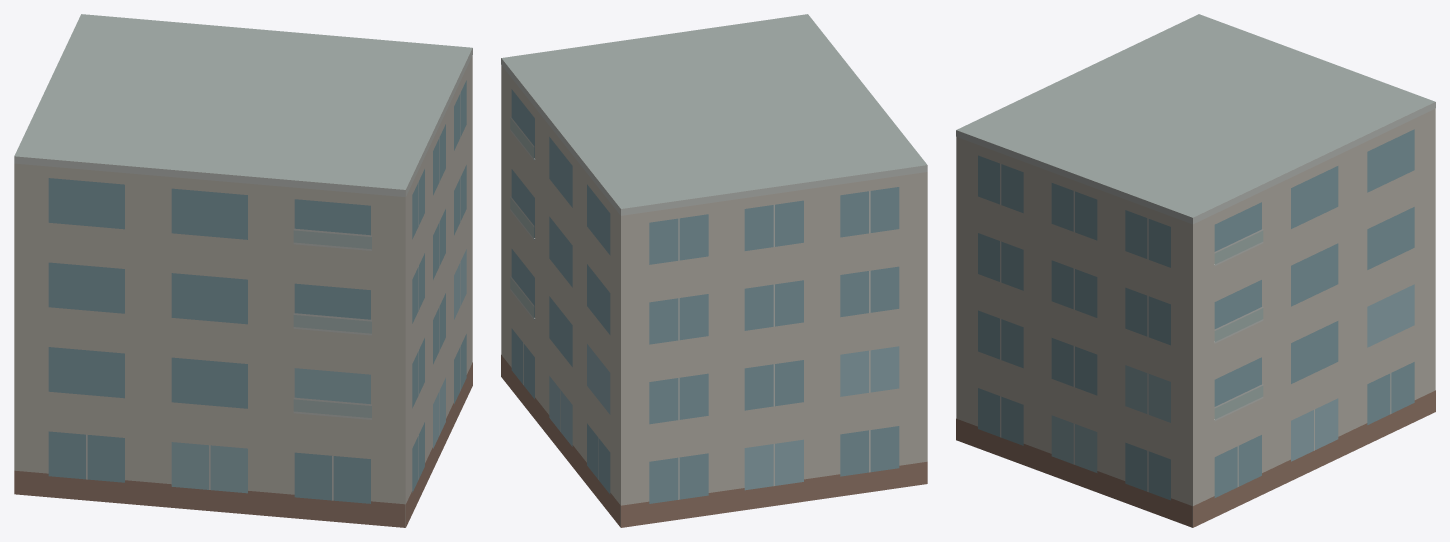
The model's file is survey-upis-32526259.glb.
3 views of the same model, side by side, from view 1: azimuth 30°, elevation 25°; view 2: azimuth 150°, elevation 25°; view 3: azimuth 270°, elevation 25° (orthographic). The views are drawn at different scales.
Parts seen in each view (by area): view 1: survey-upis-32526259.tmp; view 2: survey-upis-32526259.tmp; view 3: survey-upis-32526259.tmp.
Boxes of the visible parts, x1,y1,x2,y2 form: survey-upis-32526259.tmp: [14, 14, 472, 527]; survey-upis-32526259.tmp: [501, 14, 927, 527]; survey-upis-32526259.tmp: [956, 14, 1435, 527].
Bounding box in the file's own units: 16.08 × 11.4 × 15.99.
